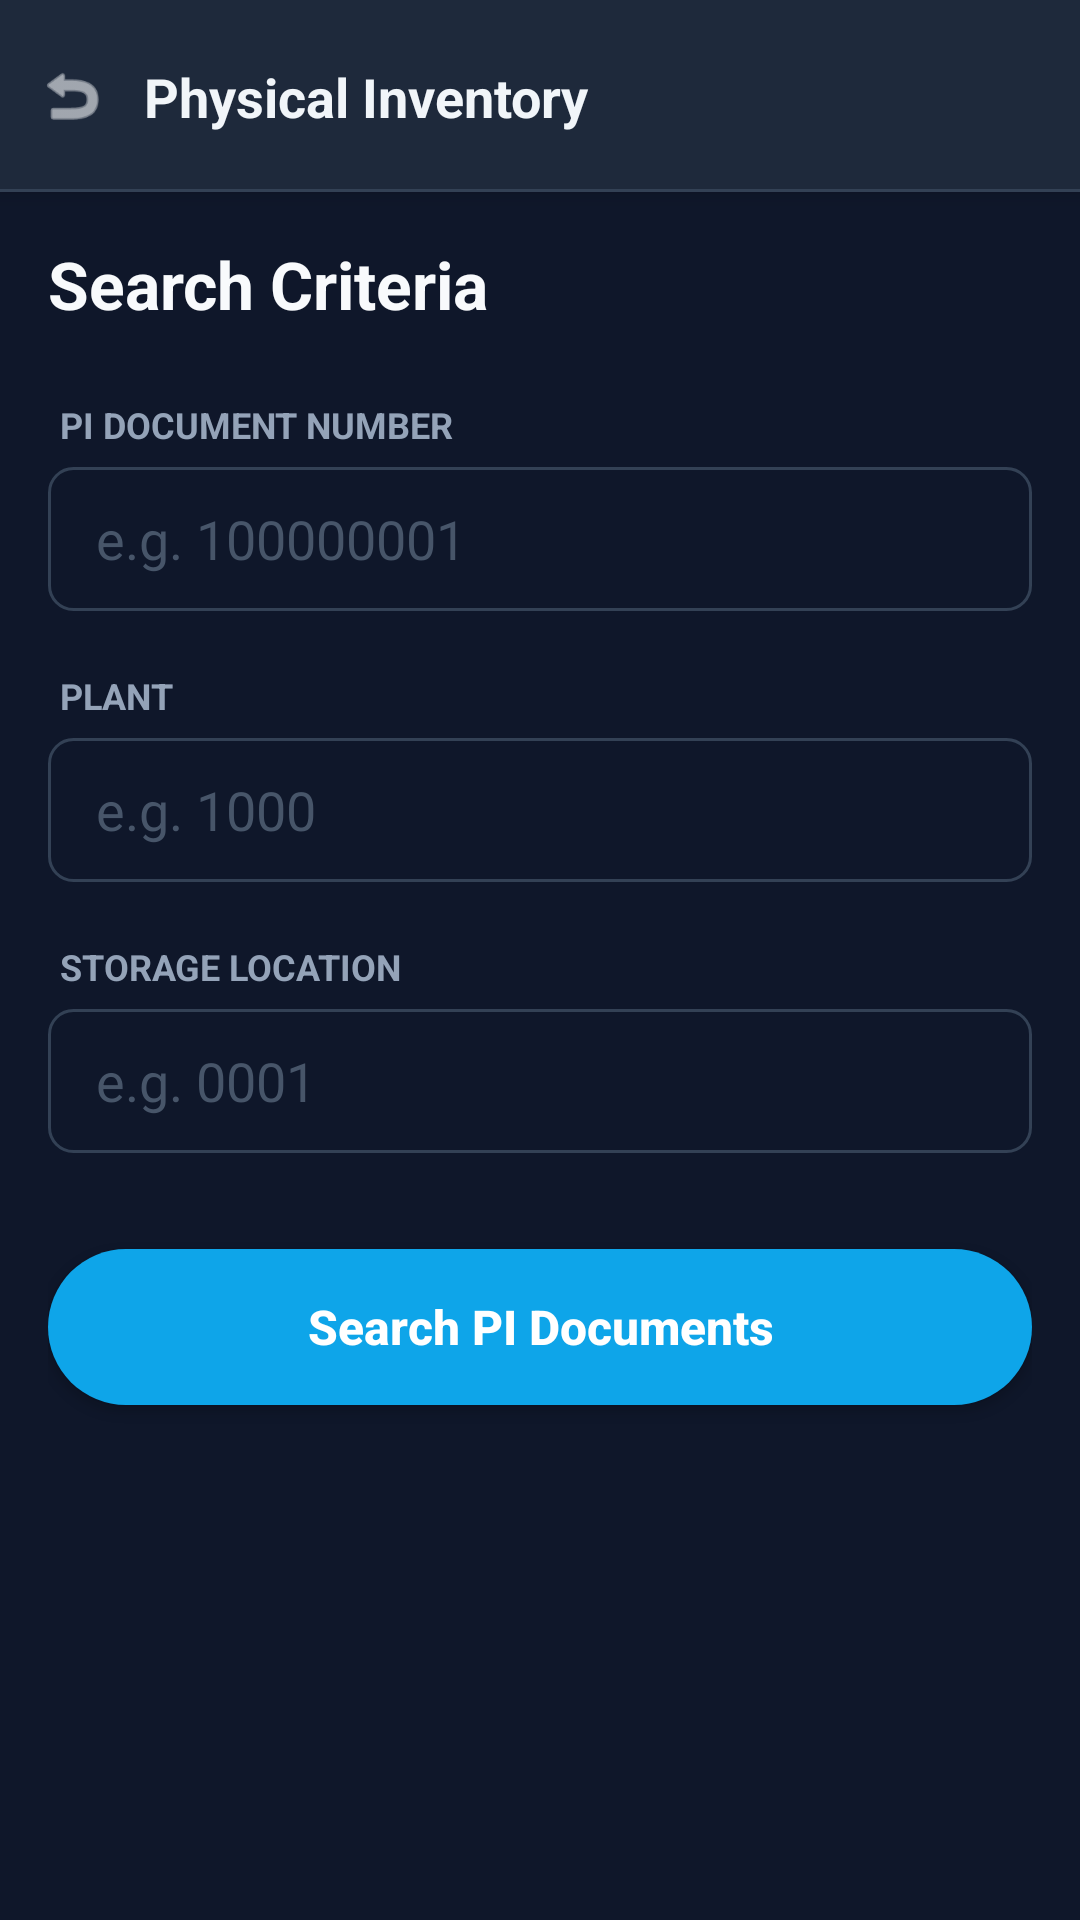

Named icons in this screenshot (1080px×1920px) and their centers, [x,y]:
revert: [73,96]
